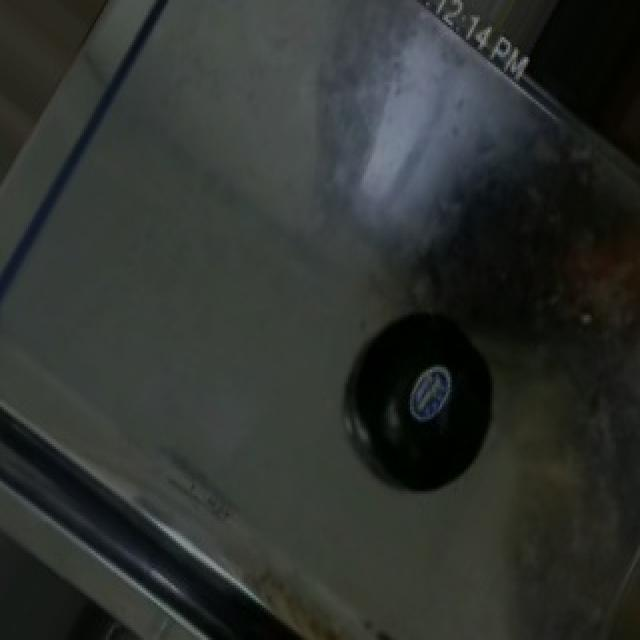Fruit: (334, 320, 522, 511), (516, 0, 640, 176)
